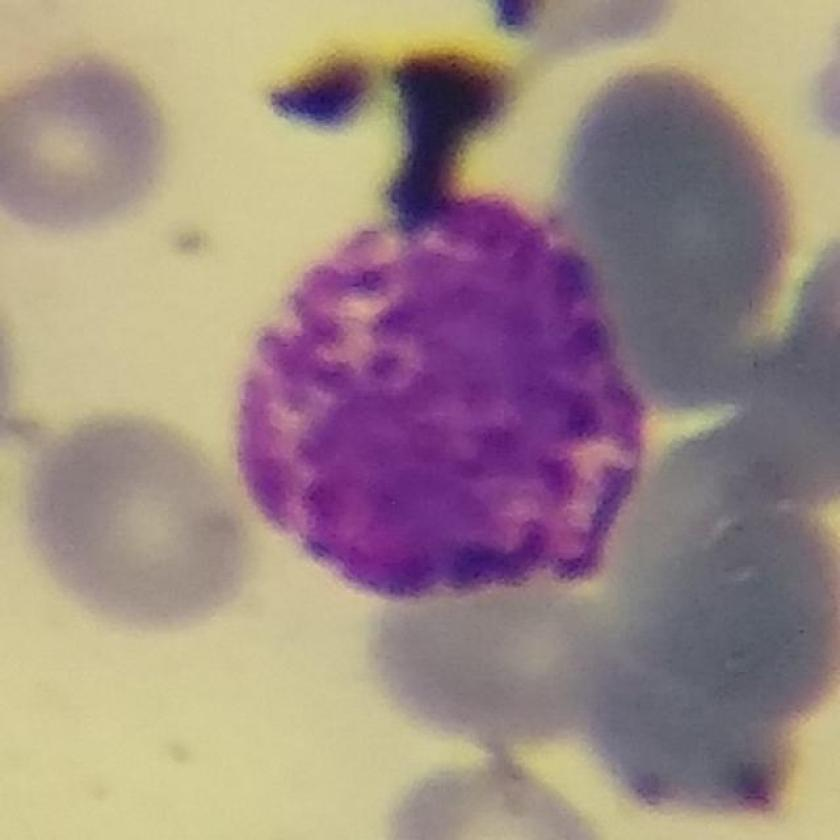basophil: (232, 191, 649, 601)
